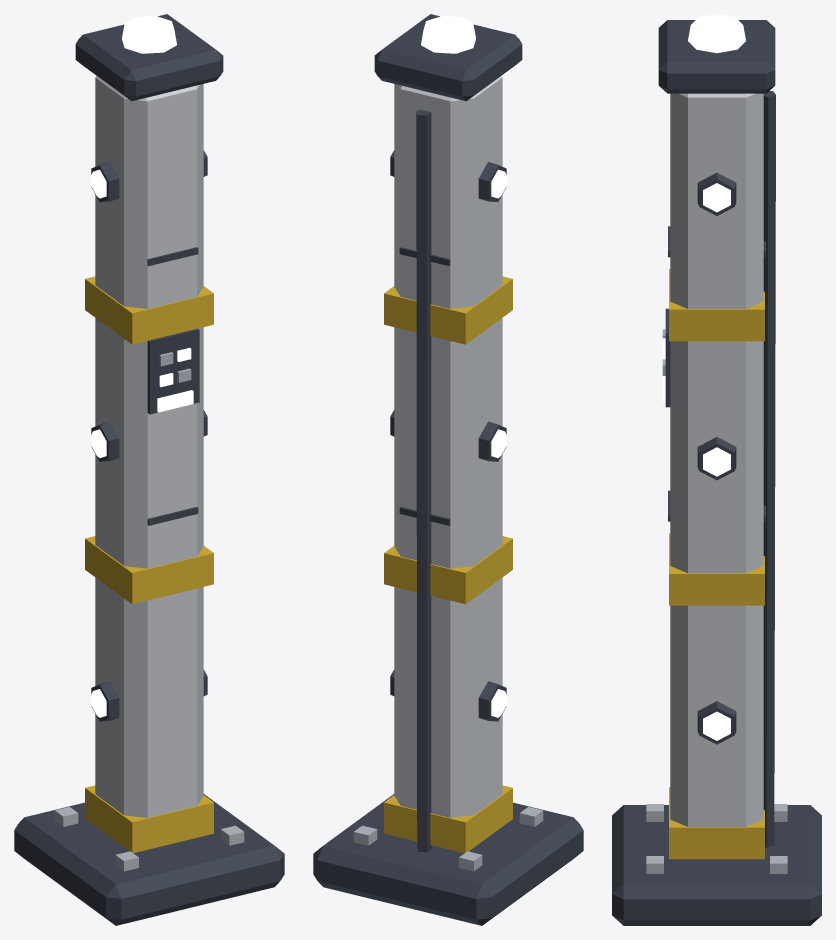
The model's file is laser-emitter.glb.
The picture shows the model from 3 angles, left to right: view 1: azimuth 30°, elevation 25°; view 2: azimuth 150°, elevation 25°; view 3: azimuth 270°, elevation 25°; orthographic projection.
Parts seen in each view (by area): view 1: LaserEmitter; view 2: LaserEmitter; view 3: LaserEmitter.
Boxes of the visible parts, left/top/right/bottom form: LaserEmitter: left=14, top=14, right=284, bottom=925; LaserEmitter: left=313, top=14, right=583, bottom=925; LaserEmitter: left=612, top=14, right=821, bottom=925.
Bounding box in the file's own units: 0.36 × 1.65 × 0.36.
